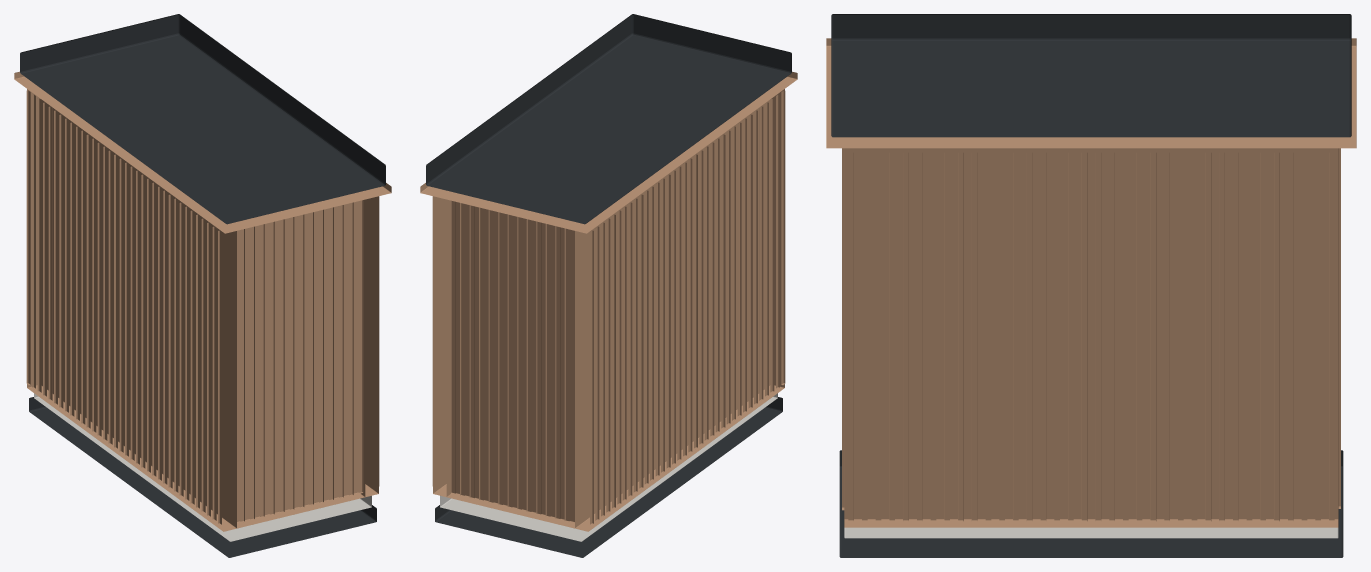
File: mobup-studio-p1-m1.glb
3 views of the same model, side by side, from view 1: azimuth 30°, elevation 25°; view 2: azimuth 150°, elevation 25°; view 3: azimuth 270°, elevation 25° (orthographic). The views are drawn at different scales.
Visible parts, largest first — view 1: Mobup_cedar, Mobup_graphite, Mobup_mineral; view 2: Mobup_cedar, Mobup_graphite, Mobup_mineral; view 3: Mobup_cedar, Mobup_graphite, Mobup_mineral.
Part boxes in pixels (bbox=[...]): Mobup_cedar: bbox=[14, 71, 391, 531]; Mobup_graphite: bbox=[20, 14, 385, 557]; Mobup_mineral: bbox=[34, 393, 371, 541]; Mobup_cedar: bbox=[420, 71, 797, 531]; Mobup_graphite: bbox=[426, 14, 791, 557]; Mobup_mineral: bbox=[440, 393, 777, 541]; Mobup_cedar: bbox=[826, 38, 1356, 527]; Mobup_graphite: bbox=[831, 14, 1351, 557]; Mobup_mineral: bbox=[844, 527, 1338, 538].
Size of the model in its own units: 1.47 by 3.02 by 3.22.
